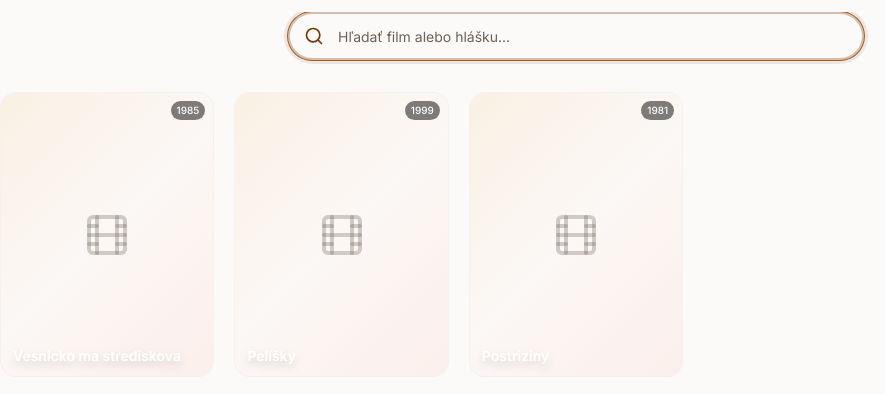
MovieSearch › shows 'Zobraziť všetky filmy' button in no-results state
This screenshot has width=885, height=394.
Step 1. Type "zzzzz" into the field with placeholder "Hľadať film alebo hlášku..." → [576, 36], box [288, 12, 864, 60]
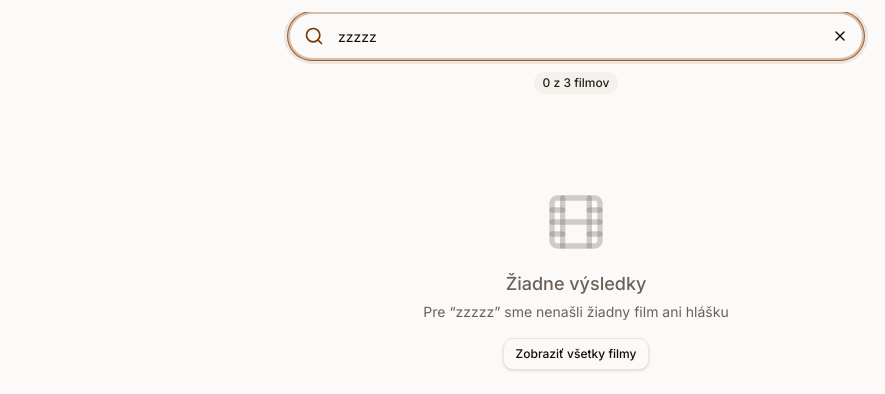
Expected: the button "Zobraziť všetky filmy" is shown, [503, 338, 649, 370]
